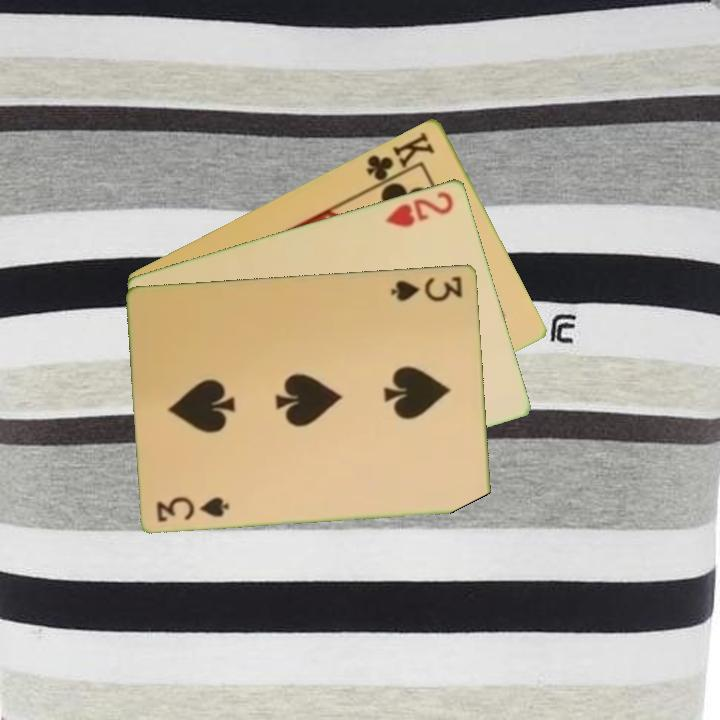2h: (381, 187, 457, 230)
3s: (153, 492, 233, 525), (388, 272, 466, 304)
Kc: (362, 127, 438, 190)
